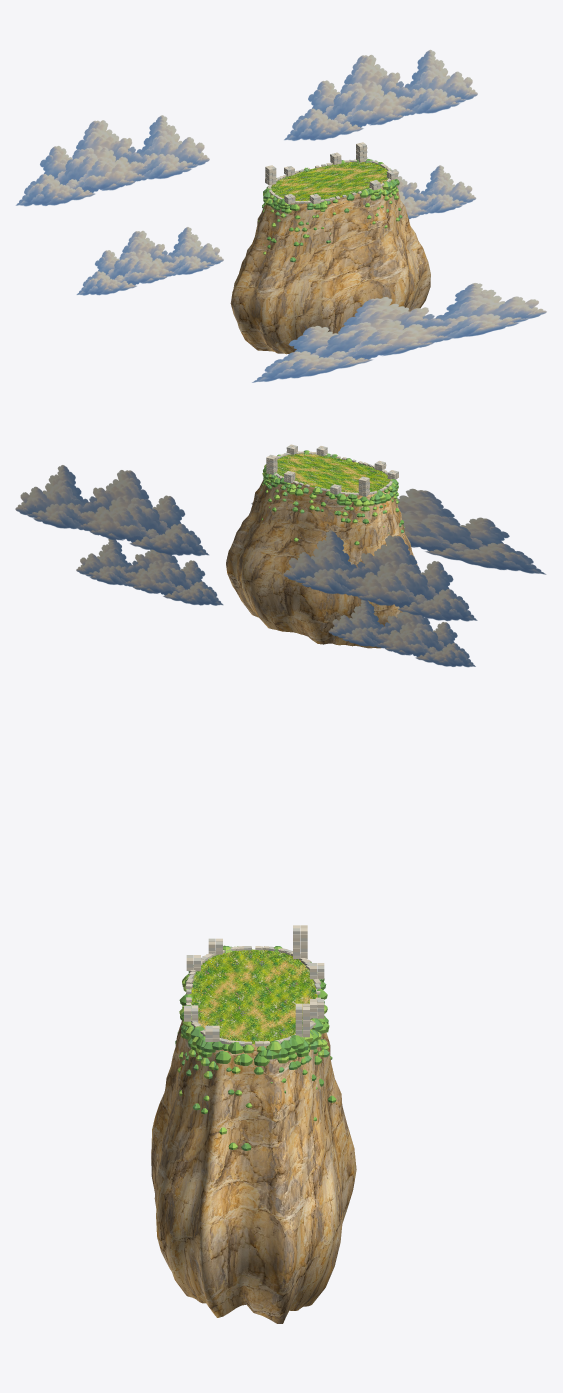
The model's file is mountain.glb.
The picture shows the model from 3 angles, top to bottom: view 1: azimuth 30°, elevation 25°; view 2: azimuth 150°, elevation 25°; view 3: azimuth 270°, elevation 25°; orthographic projection. The views are drawn at different scales.
Parts seen in each view (by area): view 1: Distant painted atmosphere, Sculpted limestone cliff, Playable grass top, Foliage on cliff, Broken stone ring and ruins, Bent meadow grass; view 2: Distant painted atmosphere, Sculpted limestone cliff, Playable grass top, Foliage on cliff, Broken stone ring and ruins, Bent meadow grass; view 3: Sculpted limestone cliff, Playable grass top, Foliage on cliff, Broken stone ring and ruins, Bent meadow grass.
Part boxes in pixels (bbox=[...]): Distant painted atmosphere: bbox=[16, 50, 546, 382]; Sculpted limestone cliff: bbox=[230, 185, 430, 354]; Playable grass top: bbox=[271, 162, 388, 201]; Foliage on cliff: bbox=[258, 159, 402, 262]; Broken stone ring and ruins: bbox=[265, 142, 398, 204]; Bent meadow grass: bbox=[272, 161, 387, 200]; Distant painted atmosphere: bbox=[15, 465, 546, 667]; Sculpted limestone cliff: bbox=[226, 478, 420, 648]; Playable grass top: bbox=[277, 453, 390, 492]; Foliage on cliff: bbox=[260, 450, 404, 545]; Broken stone ring and ruins: bbox=[266, 444, 398, 496]; Bent meadow grass: bbox=[277, 453, 389, 492]; Sculpted limestone cliff: bbox=[151, 993, 356, 1323]; Playable grass top: bbox=[190, 949, 317, 1044]; Foliage on cliff: bbox=[175, 945, 336, 1150]; Broken stone ring and ruins: bbox=[184, 925, 324, 1046]; Bent meadow grass: bbox=[192, 949, 314, 1042].
Size of the model in its own units: 118 by 49.19 by 67.
19 materials, 3 textured.
